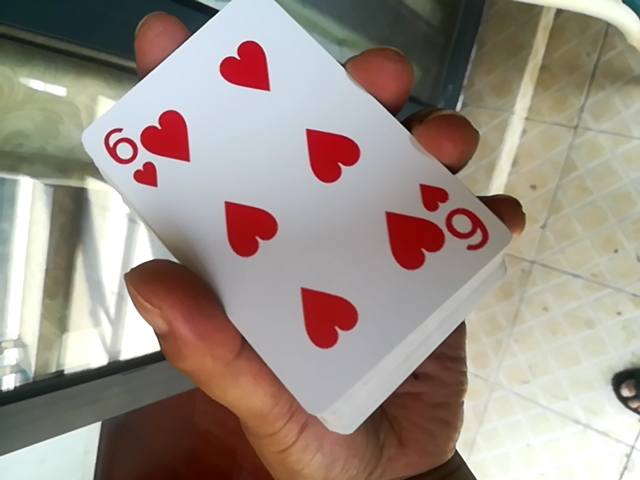hx 6: (83, 6, 490, 451)
